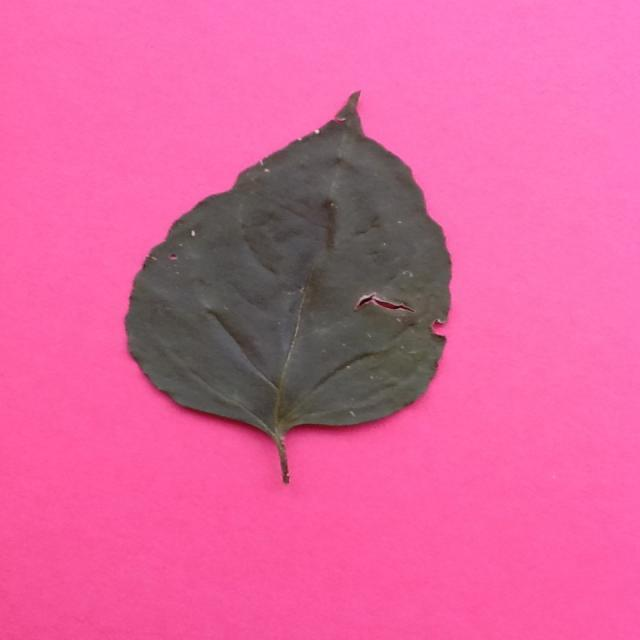foliage: (124, 92, 453, 484)
